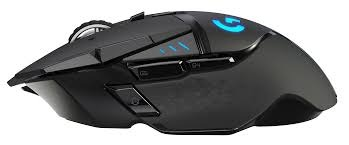mouse: (13, 1, 342, 137)
